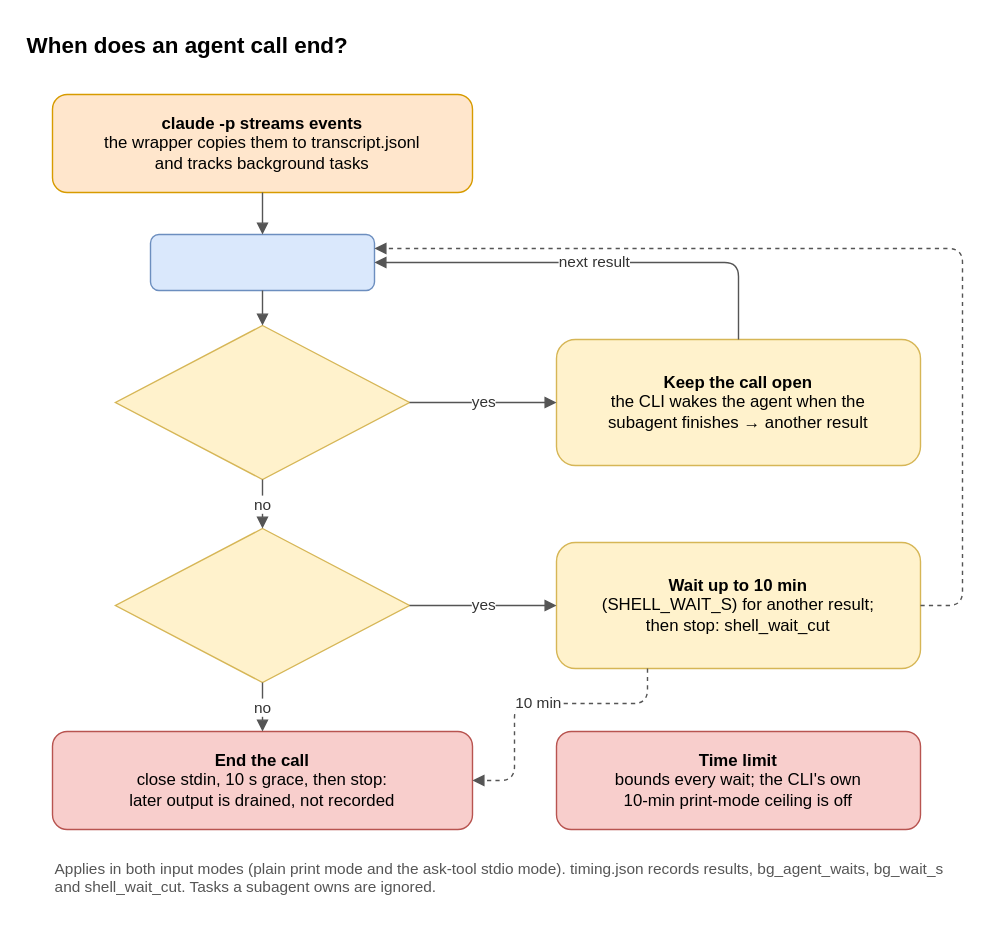
Image size: 998x930. Some labels were removed from this diagram. Here are the shapes that lost their labels. From the top down, the centre of each, then its label:
At point (261, 261): "result event".
At point (262, 401): "background subagent running?".
At point (262, 604): "only background shells running?".
